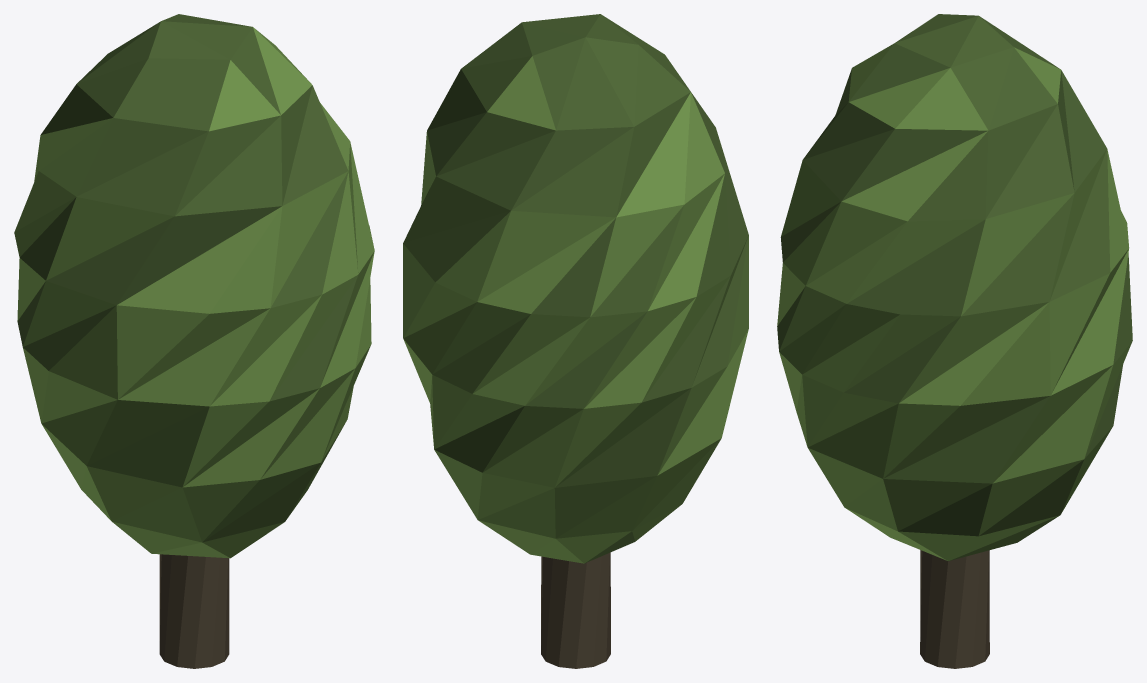
Rendered from twisted-snow-small3.dae.
The picture shows the model from 3 angles, left to right: view 1: azimuth 30°, elevation 25°; view 2: azimuth 150°, elevation 25°; view 3: azimuth 270°, elevation 25°; orthographic projection.
Parts seen in each view (by area): view 1: Kugel, Zylinder; view 2: Kugel, Zylinder; view 3: Kugel, Zylinder.
Part boxes in pixels (x1,y1,x2,y2): Kugel: (14,14,374,558); Zylinder: (159,554,229,668); Kugel: (403,14,748,563); Zylinder: (541,552,610,668); Kugel: (777,14,1132,561); Zylinder: (920,550,989,668).
Size of the model in its own units: 4.54 by 9.01 by 4.63.
